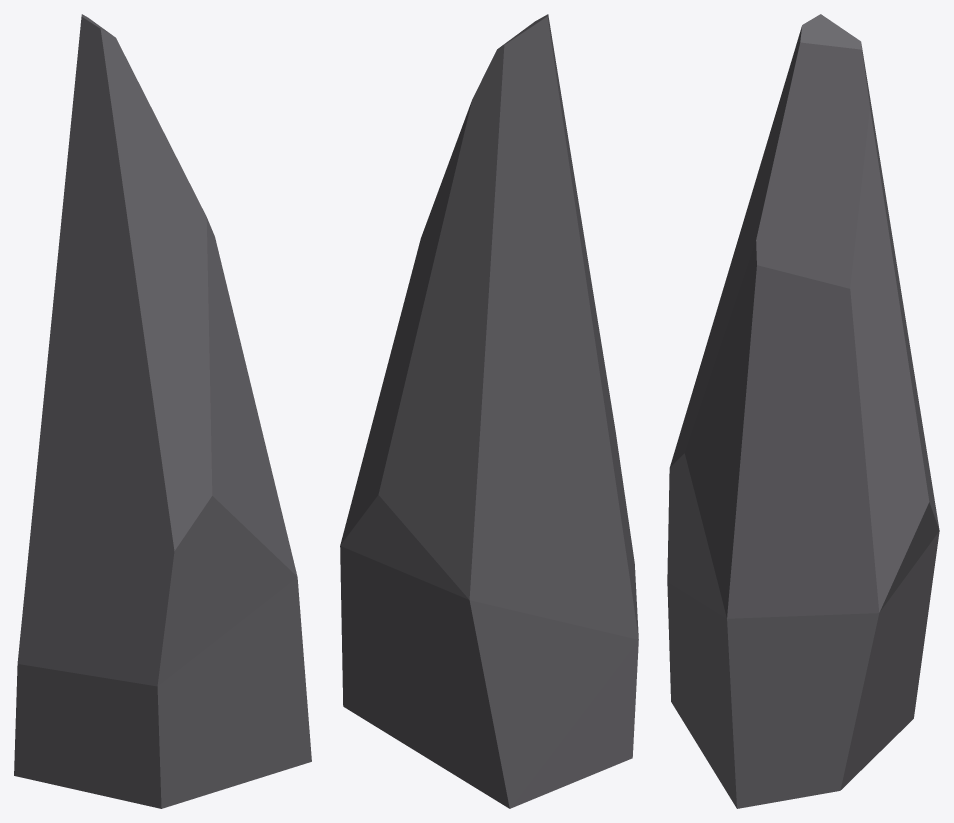
The model's file is Rock_Sharp_m_03.fbx.
3 renders of one model, left to right at view 1: azimuth 30°, elevation 25°; view 2: azimuth 150°, elevation 25°; view 3: azimuth 270°, elevation 25°, orthographic. The views are drawn at different scales.
Visible parts, largest first — view 1: Rock_Sharp_m_03; view 2: Rock_Sharp_m_03; view 3: Rock_Sharp_m_03.
Part boxes in pixels (left/top/right/bottom): Rock_Sharp_m_03: left=14, top=14, right=311, bottom=808; Rock_Sharp_m_03: left=340, top=14, right=638, bottom=808; Rock_Sharp_m_03: left=667, top=14, right=939, bottom=808.
Size of the model in its own units: 0.7643 by 2.03 by 0.7049.
